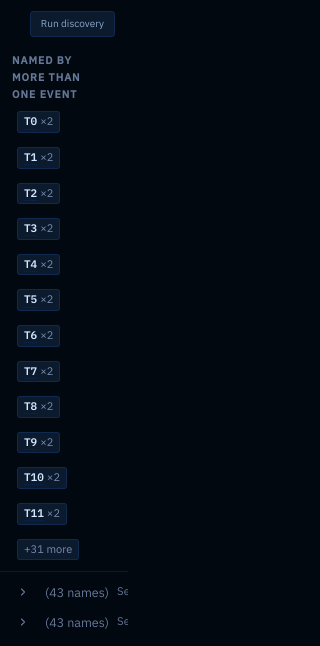
Test: AetherCandidates shortlist › each event keeps its own shortlist, and only the open one shows it
Expected: the button "more, lower ranked" is not shown
Click the 1st button "Canada": (69, 592) [5, 577, 133, 607]
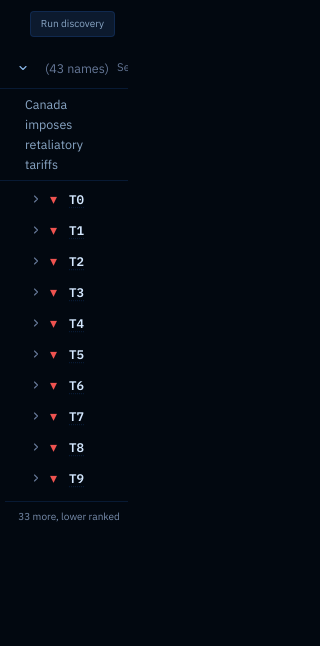
Now the number of buttons "33 more, lower ranked" is 1, box [5, 501, 128, 532]
